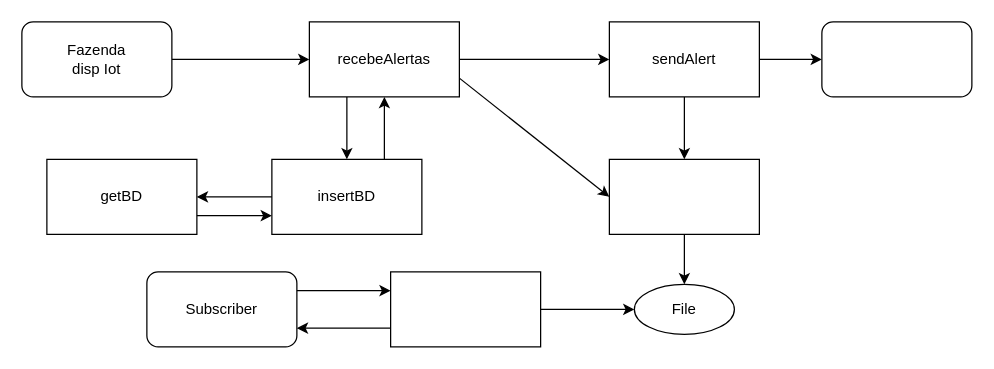
Some shapes in this 994 by 369 pixel diagram are drawn without their labels. Here are the shapes that lost their labels. From the top down, the centre of each, then its label:
point (896, 59): Proprietario
point (683, 196): publish
point (465, 309): Monitora
